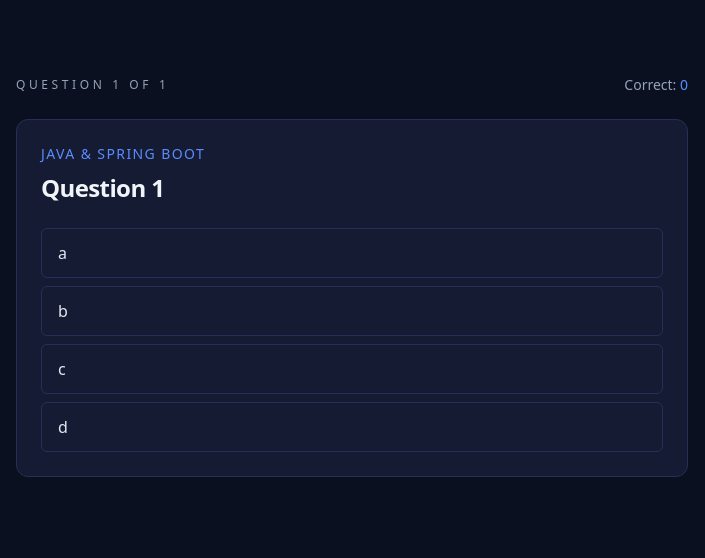
Scenario: practice screen › tells the player when an answer is wrong
The image size is (705, 558).
Click the button "a" at (62, 253), box 41,228 -> 663,278
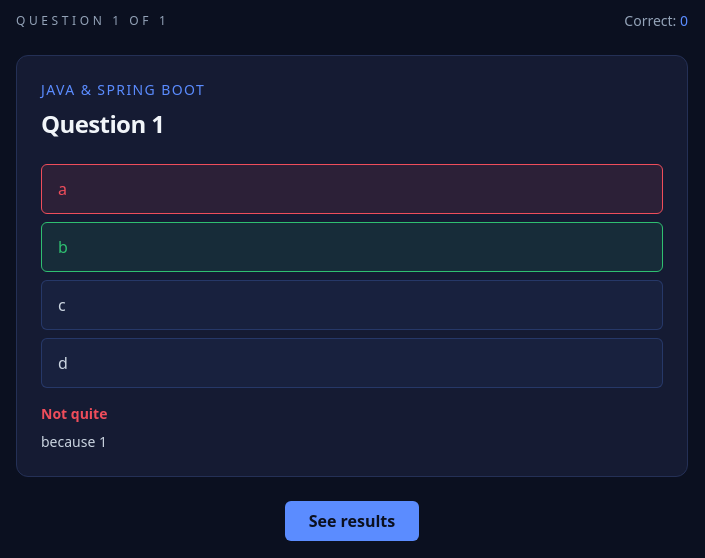
Expected: the text "Not quite" is shown, 41,404 -> 108,423
Expected: the text "because 1" is shown, 41,432 -> 107,451
